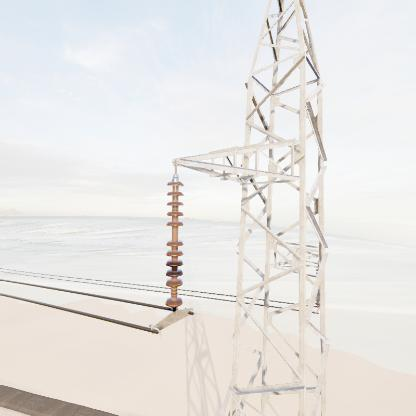insulator: (161, 177, 187, 307)
